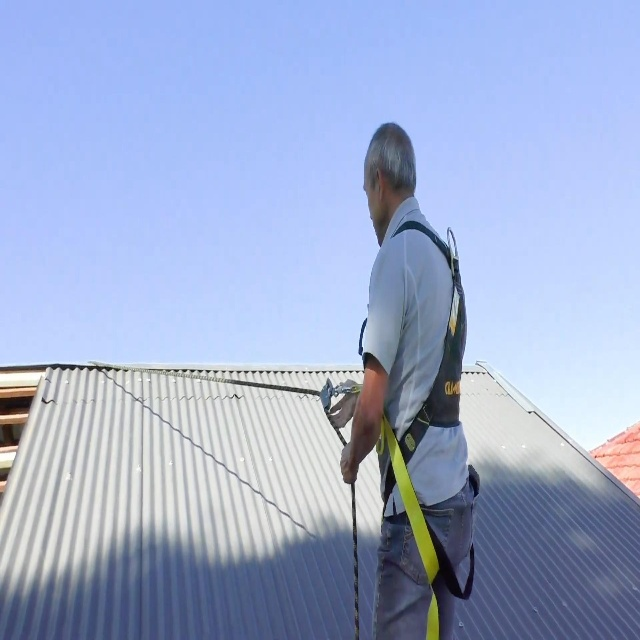Arnes_seguridad: (328, 216, 490, 640)
